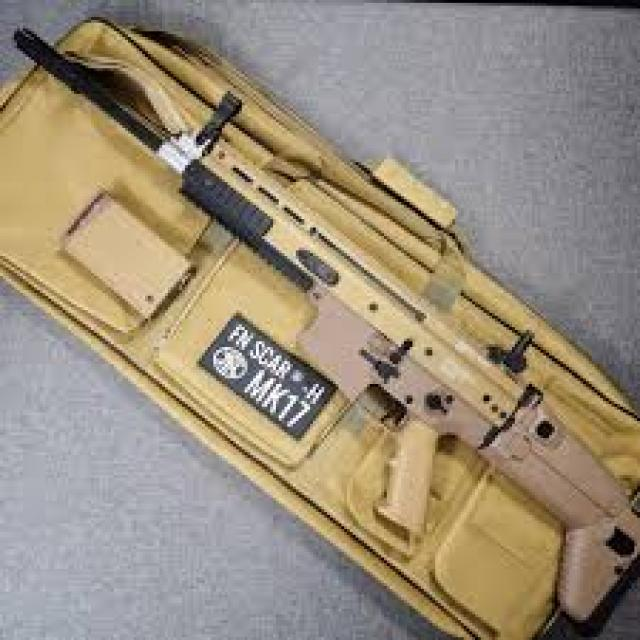Gun: (16, 19, 640, 640)
